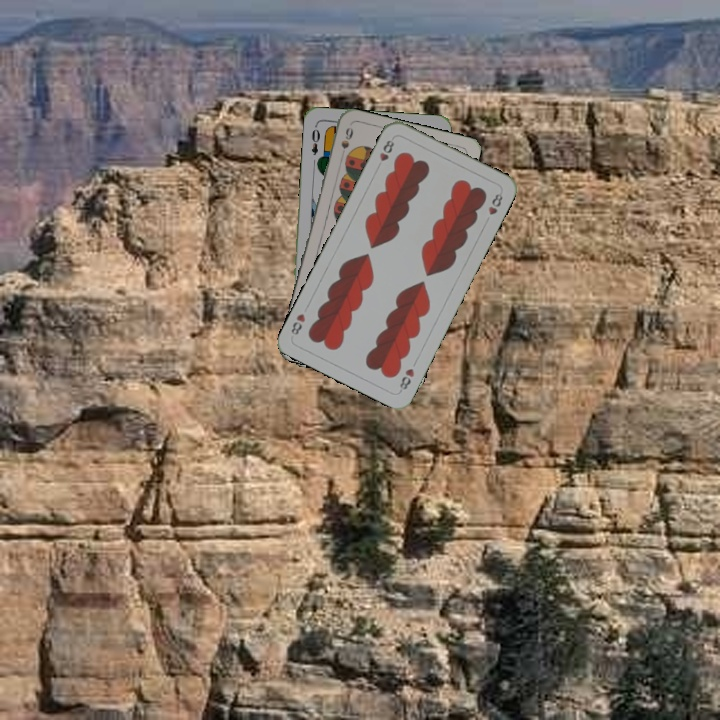EO: (307, 122, 322, 158)
H8: (395, 364, 417, 394), (375, 136, 397, 164)
S9: (337, 123, 356, 163)
